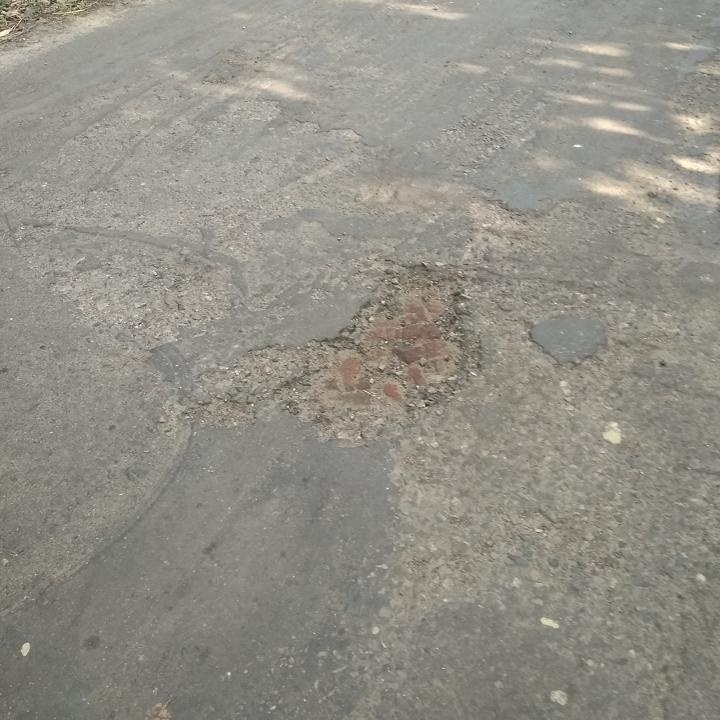pothole: (281, 255, 482, 441)
